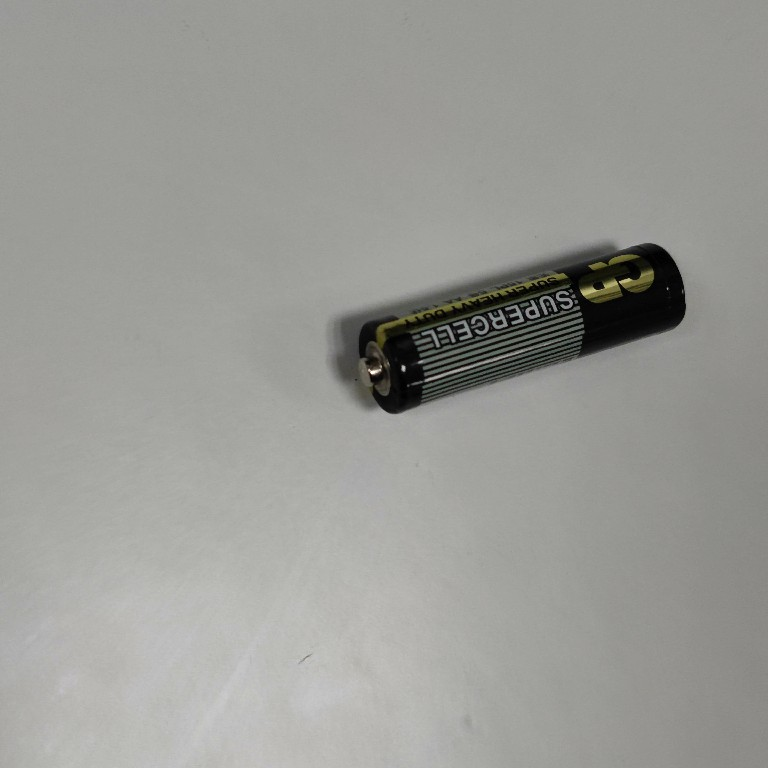charge: (350, 240, 693, 419)
